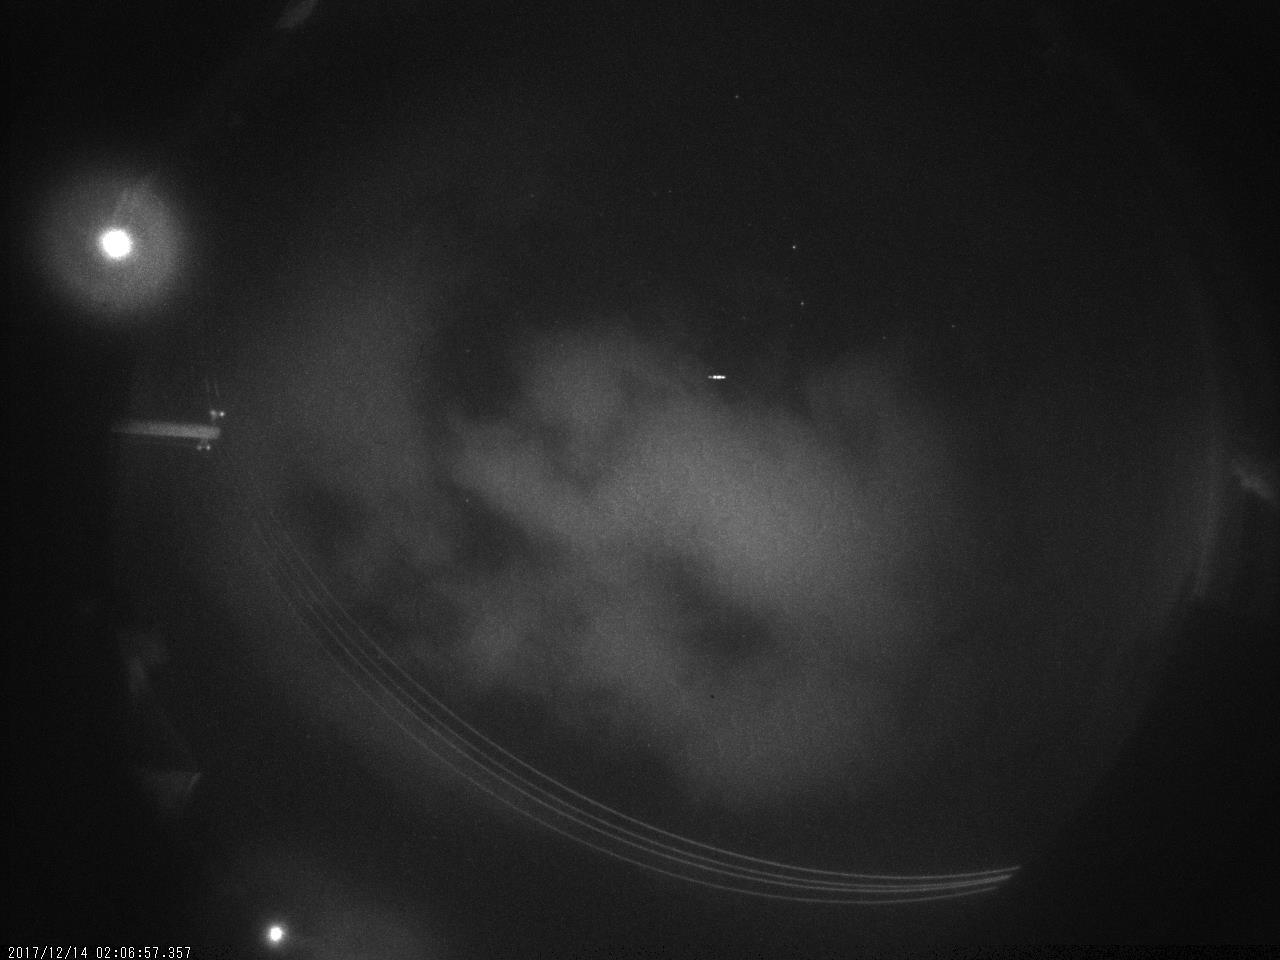Meteor: (705, 369, 731, 385)
